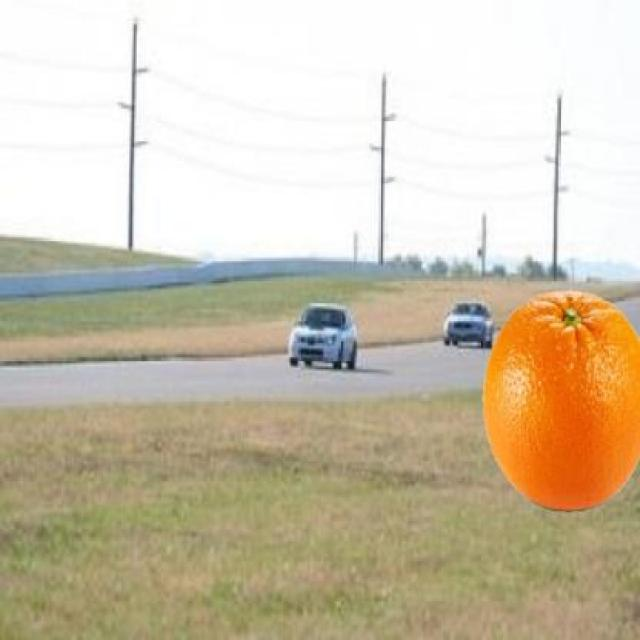Orange: (480, 286, 638, 512)
